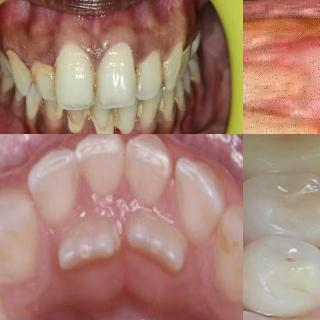Gum Swelling: (1, 27, 185, 71), (270, 2, 320, 134), (38, 98, 75, 134), (129, 109, 164, 134)
calculus: (29, 58, 56, 98), (8, 50, 32, 91), (89, 104, 115, 134), (64, 105, 88, 134), (156, 53, 173, 88), (46, 98, 68, 125), (110, 104, 128, 133), (154, 96, 170, 122), (132, 101, 148, 127), (173, 92, 185, 115), (179, 44, 191, 64), (188, 68, 198, 89), (0, 40, 8, 65)
maligned: (120, 209, 184, 283), (54, 220, 124, 284), (243, 286, 320, 320)
stains: (88, 59, 106, 102), (129, 62, 146, 90)
